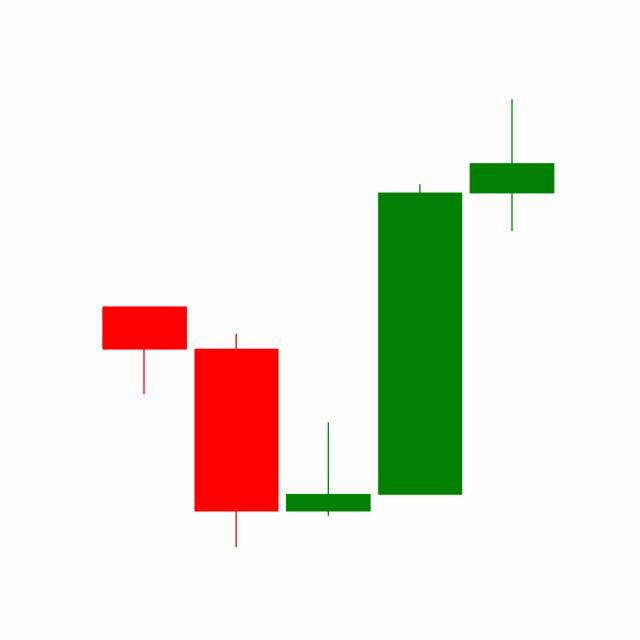Marubozu: (374, 181, 468, 499)
